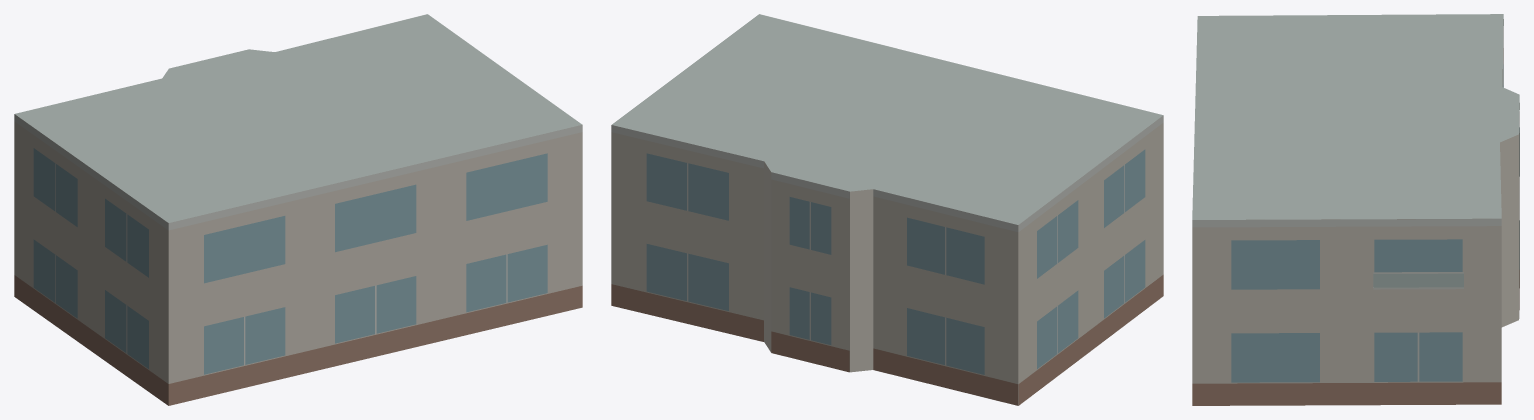
File: survey-upis-32821190.glb
3 renders of one model, left to right at view 1: azimuth 30°, elevation 25°; view 2: azimuth 150°, elevation 25°; view 3: azimuth 270°, elevation 25°, orthographic. The views are drawn at different scales.
Parts seen in each view (by area): view 1: survey-upis-32821190.tmp; view 2: survey-upis-32821190.tmp; view 3: survey-upis-32821190.tmp.
Boxes of the visible parts, x1,y1,x2,y2 form: survey-upis-32821190.tmp: [14, 14, 582, 405]; survey-upis-32821190.tmp: [611, 14, 1163, 405]; survey-upis-32821190.tmp: [1192, 14, 1519, 405].
Bounding box in the file's own units: 14.51 × 6.1 × 9.75.
